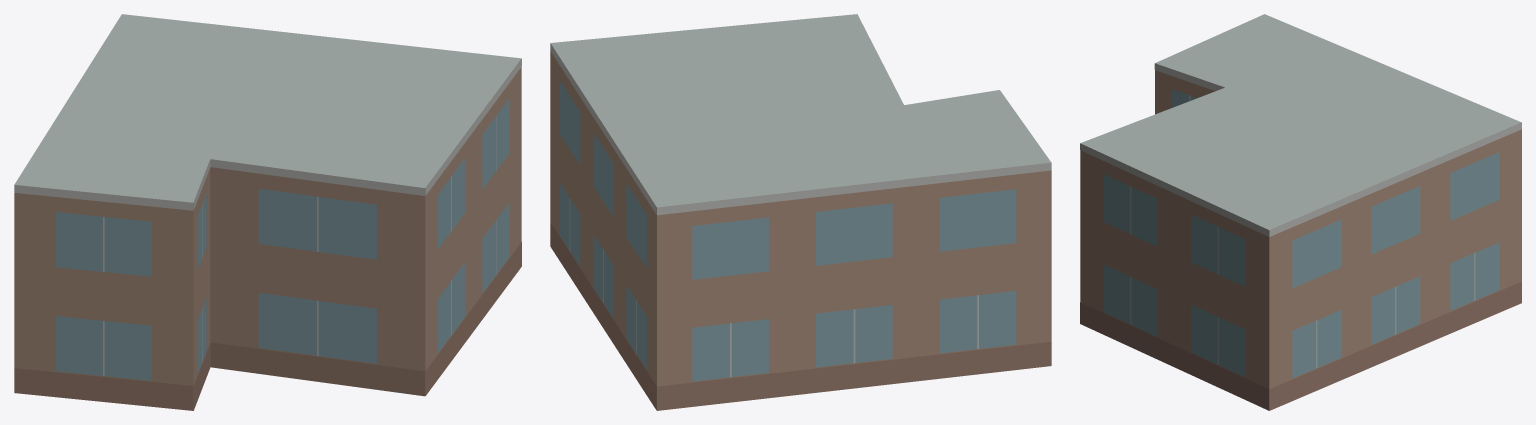
Rendered from survey-upis-32855464.glb.
3 renders of one model, left to right at view 1: azimuth 30°, elevation 25°; view 2: azimuth 150°, elevation 25°; view 3: azimuth 270°, elevation 25°, orthographic. The views are drawn at different scales.
Parts seen in each view (by area): view 1: survey-upis-32855464.tmp; view 2: survey-upis-32855464.tmp; view 3: survey-upis-32855464.tmp.
Part boxes in pixels (box(x1,y1,x2,y2)): survey-upis-32855464.tmp: box(14, 14, 521, 410); survey-upis-32855464.tmp: box(550, 14, 1051, 410); survey-upis-32855464.tmp: box(1080, 14, 1521, 410).
Size of the model in its own units: 16.44 by 6.4 by 14.19.
